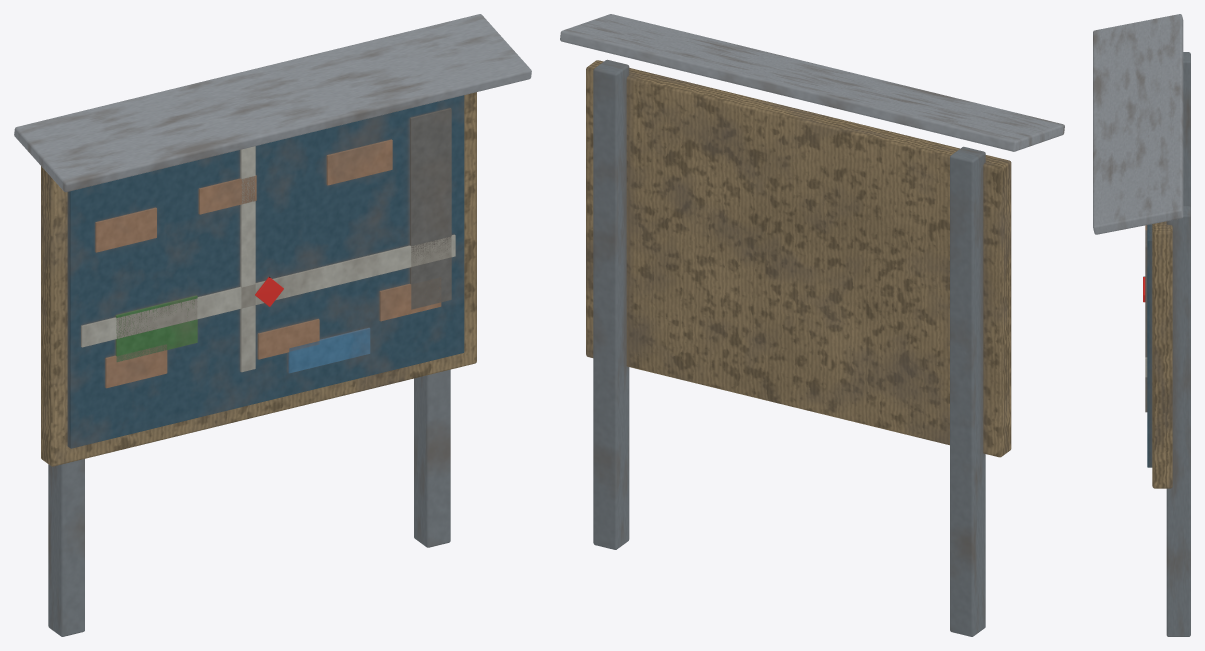
The model's file is rynek_mapa.glb.
3 views of the same model, side by side, from view 1: azimuth 30°, elevation 25°; view 2: azimuth 150°, elevation 25°; view 3: azimuth 270°, elevation 25° (orthographic). The views are drawn at different scales.
Parts seen in each view (by area): view 1: Mapa; view 2: Mapa; view 3: Mapa.
Part boxes in pixels (bbox=[...]): Mapa: bbox=[14, 14, 531, 636]; Mapa: bbox=[560, 14, 1064, 636]; Mapa: bbox=[1093, 14, 1190, 636].
Size of the model in its own units: 2.3 by 2.42 by 0.4832.
Materials: 2 (2 with a texture image).
